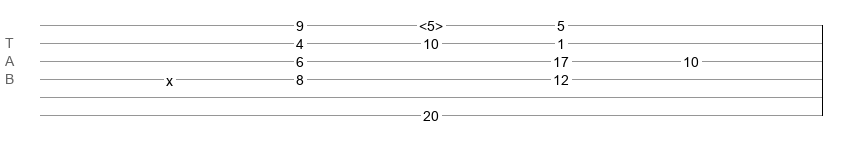1: (557, 36, 565, 46)
10: (423, 36, 439, 46), (683, 54, 699, 64)
12: (553, 72, 569, 82)
17: (553, 54, 569, 64)
20: (423, 108, 439, 118)
4: (296, 36, 304, 46)
5: (557, 18, 565, 28)
6: (296, 54, 304, 64)
8: (296, 72, 304, 82)
9: (296, 18, 304, 28)
harmonic: (419, 18, 443, 28)
x: (166, 73, 173, 81)
